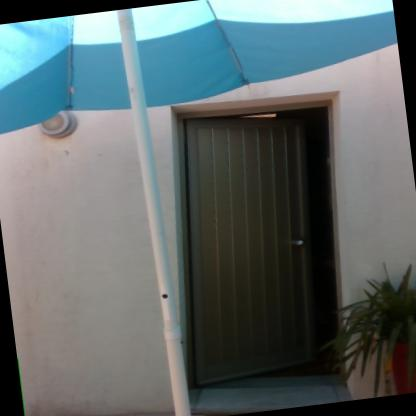semi: (145, 76, 382, 403)
